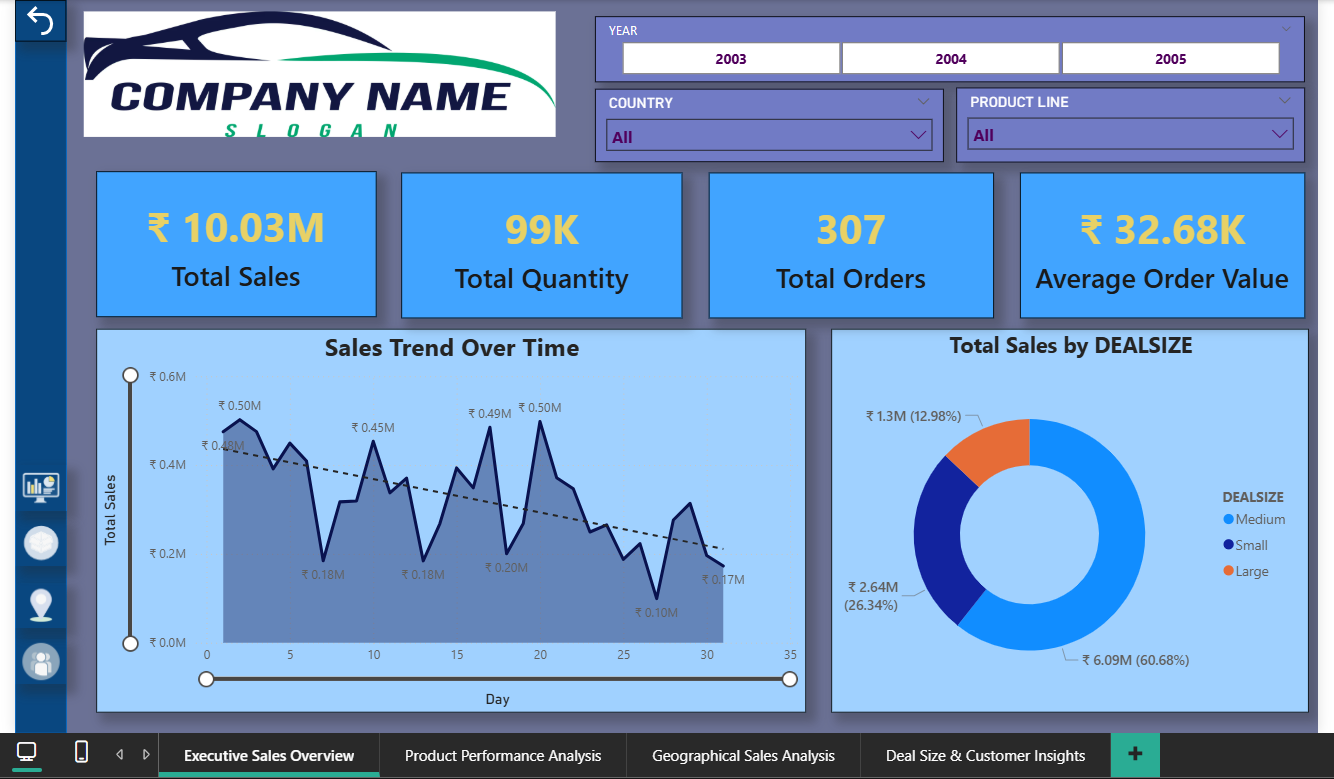

The dashboard page shown, as its layout file describes it:
{"tool":"powerbi","page":{"name":"Executive Sales Overview","canvas":[1280,720],"ordinal":0},"visuals":[{"type":"card","fields":{"Values":["Table Measures.Total Sales"]},"box":[79.8,168.1,274.8,143.6],"z":0},{"type":"lineChart","title":"Sales Trend Over Time","fields":{"Category":["Sales Data.ORDER DATE.Variation.Date Hierarchy.Year","Sales Data.ORDER DATE.Variation.Date Hierarchy.Quarter","Sales Data.ORDER DATE.Variation.Date Hierarchy.Month","Sales Data.ORDER DATE.Variation.Date Hierarchy.Day"],"Y":["Table Measures.Total Sales"]},"box":[79.4,323.2,696.9,376.6],"z":1000},{"type":"donutChart","fields":{"Category":["Sales Data.DEALSIZE"],"Y":["Table Measures.Total Sales"]},"box":[800.7,323.2,468.9,376.6],"z":2000},{"type":"slicer","fields":{"Values":["Sales Data.YEAR_ID"]},"box":[569.3,16,696.9,65],"z":3000},{"type":"slicer","fields":{"Values":["Sales Data.COUNTRY"]},"box":[569.3,87.1,342.3,72.4],"z":4000},{"type":"slicer","fields":{"Values":["Sales Data.PRODUCT LINE"]},"box":[923.9,85.9,342.3,73.6],"z":5000},{"type":"card","fields":{"Values":["Table Measures.Total Quantity"]},"box":[379.1,169.3,276.1,143.6],"z":6000},{"type":"card","fields":{"Values":["Table Measures.Total Orders"]},"box":[681,169.3,279.8,143.6],"z":7000},{"type":"card","fields":{"Values":["Table Measures.Average Order Value"]},"box":[986.5,169.3,279.8,143.6],"z":8000},{"type":"shape","box":[0,0,51,720.3],"z":9000},{"type":"actionButton","box":[0,456.5,51,44.8],"z":10000},{"type":"actionButton","box":[0,510.7,50.5,44.7],"z":11000},{"type":"actionButton","box":[0,571.3,50.5,44.7],"z":12000},{"type":"actionButton","box":[0,627.6,50.5,44.7],"z":13000},{"type":"image","box":[67.8,0,463.1,145.7],"z":14000},{"type":"actionButton","box":[0,0,50.3,40.5],"z":15000}]}

Visuals, with their boxes on the page's 1280x720 design canvas (x1, y1, x2, y2). These are canvas units, not pixel positions in the 1334x779 screenshot, which may show the page scaled, cropped or inside an application window:
card - Table Measures.Total Sales: 80,168,355,312
"Sales Trend Over Time" lineChart: 79,323,776,700
donutChart - Sales Data.DEALSIZE x Table Measures.Total Sales: 801,323,1270,700
slicer - Sales Data.YEAR_ID: 569,16,1266,81
slicer - Sales Data.COUNTRY: 569,87,912,160
slicer - Sales Data.PRODUCT LINE: 924,86,1266,160
card - Table Measures.Total Quantity: 379,169,655,313
card - Table Measures.Total Orders: 681,169,961,313
card - Table Measures.Average Order Value: 986,169,1266,313
shape: 0,0,51,720
actionButton: 0,456,51,501
actionButton: 0,511,50,555
actionButton: 0,571,50,616
actionButton: 0,628,50,672
image: 68,0,531,146
actionButton: 0,0,50,40
